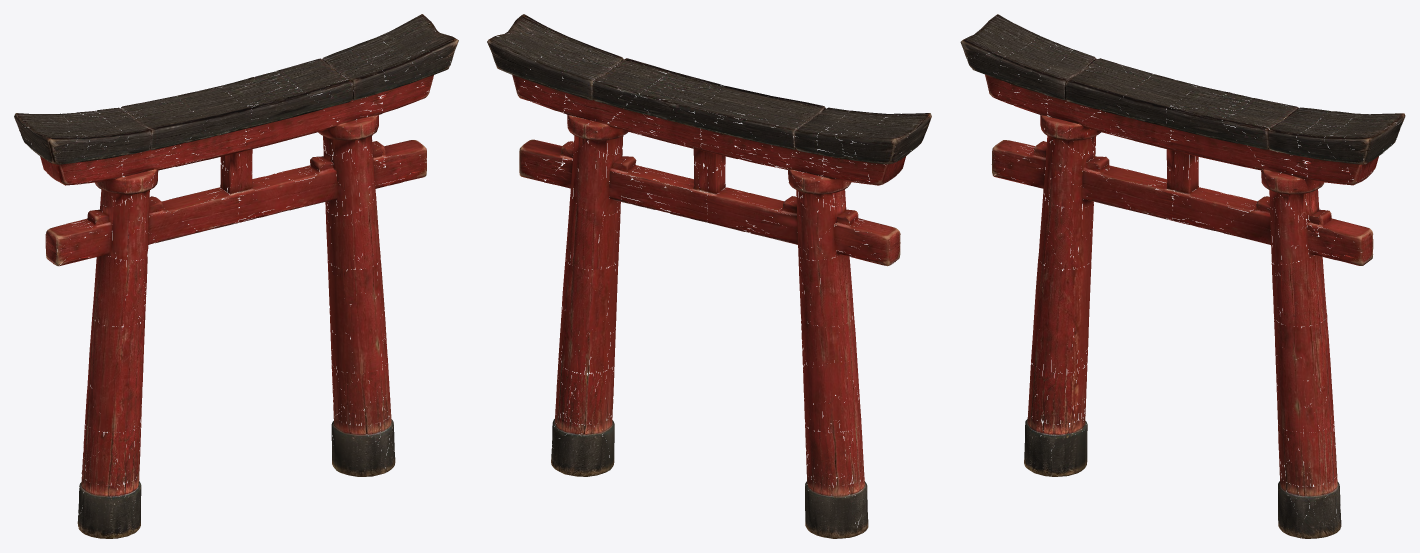
Rendered from ronin-torii-v01.glb.
3 renders of one model, left to right at view 1: azimuth 30°, elevation 25°; view 2: azimuth 150°, elevation 25°; view 3: azimuth 330°, elevation 25°, orthographic.
Visible parts, largest first — view 1: torii | web; view 2: torii | web; view 3: torii | web.
Part boxes in pixels (left/top/right/bottom): torii | web: left=14, top=14, right=458, bottom=538; torii | web: left=487, top=14, right=931, bottom=538; torii | web: left=960, top=14, right=1405, bottom=538.
Size of the model in its own units: 0.5535 by 0.54 by 0.0852.
Materials: 1 (1 with a texture image).
